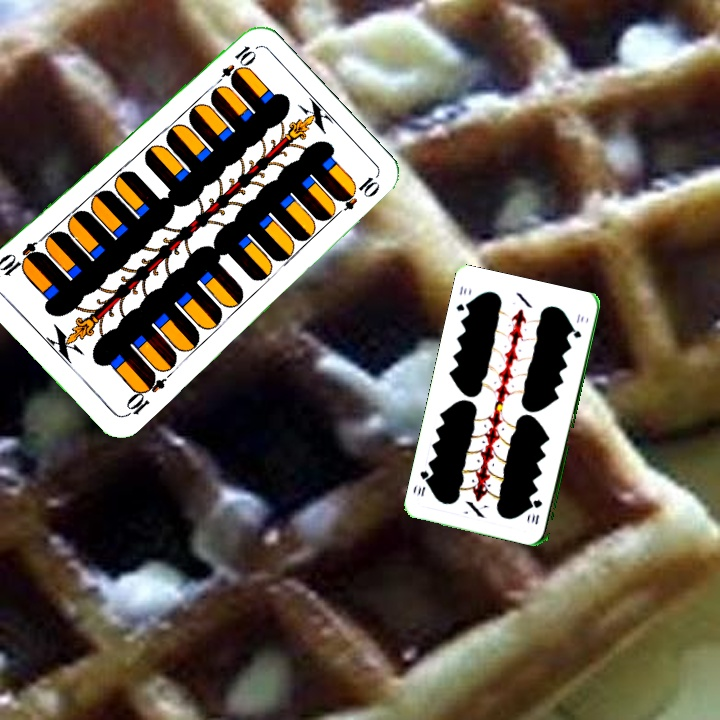E10: (209, 41, 258, 91), (121, 369, 168, 420)
G10: (452, 282, 473, 315), (528, 496, 545, 527)
